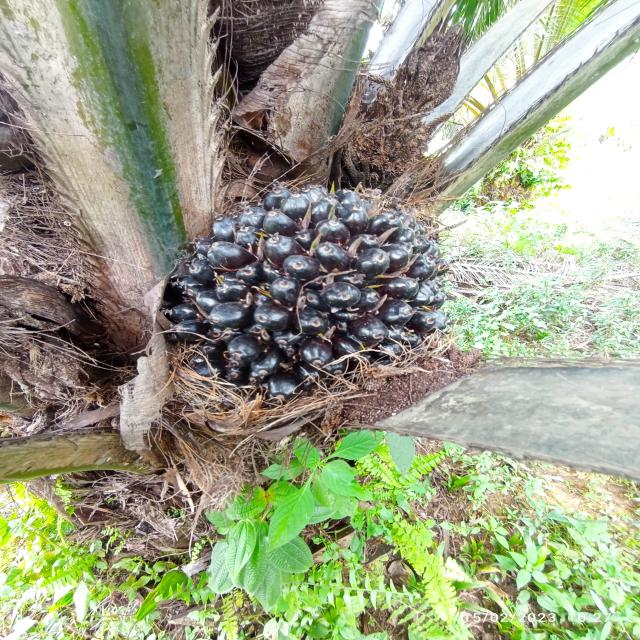fraksi 00: (136, 144, 493, 452)
